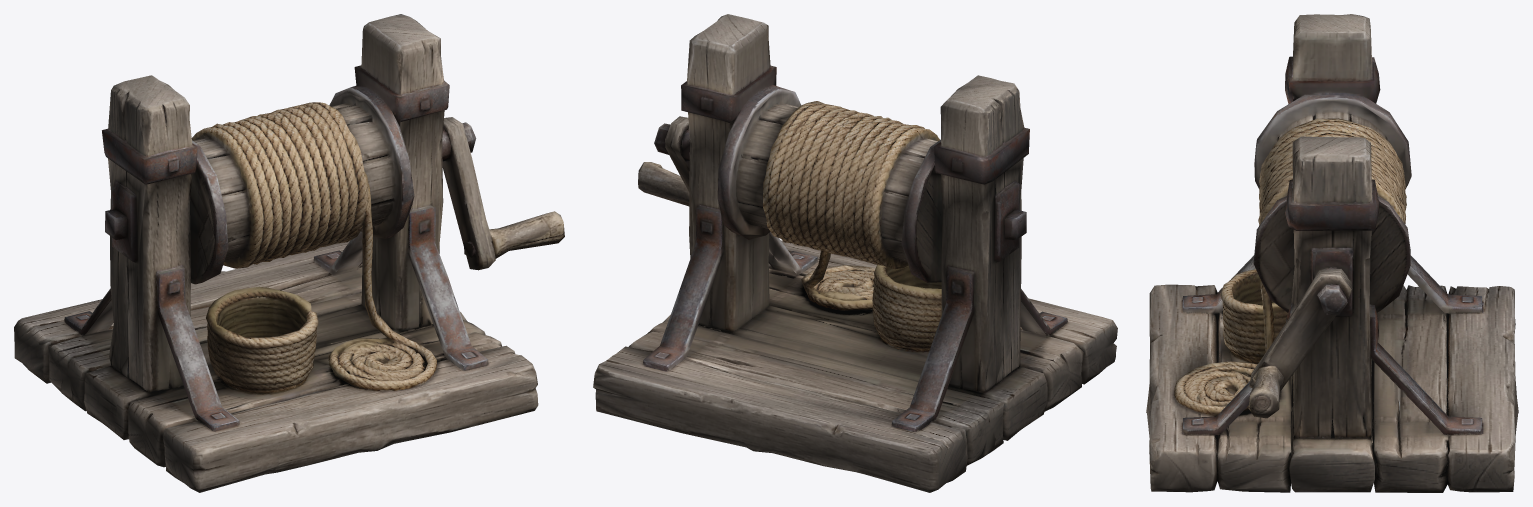
The model's file is CliffWinch.gltf.
3 views of the same model, side by side, from view 1: azimuth 30°, elevation 25°; view 2: azimuth 150°, elevation 25°; view 3: azimuth 270°, elevation 25° (orthographic).
Parts seen in each view (by area): view 1: lo; view 2: lo; view 3: lo.
Boxes of the visible parts, <box> form: lo: <box>14,14,564,492</box>; lo: <box>593,14,1117,492</box>; lo: <box>1146,14,1518,492</box>.
Size of the model in its own units: 2.87 by 2.12 by 2.2.
Materials: 1 (1 with a texture image).
